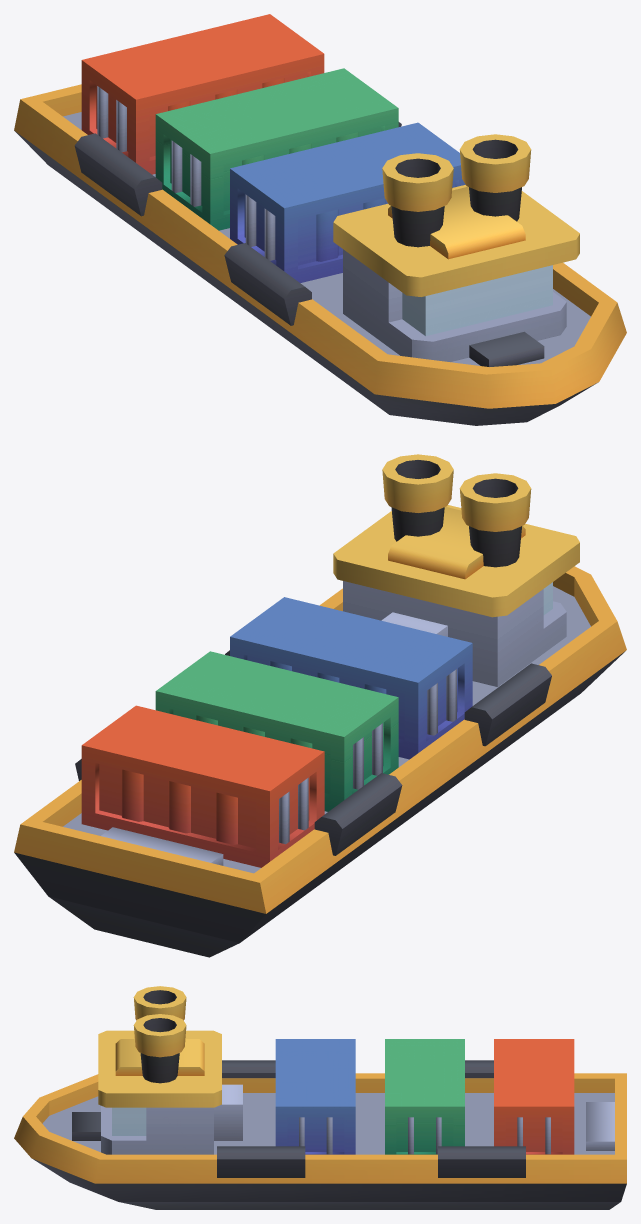
File: ship-cargo-a-transformed-transformed-transformed.glb
3 renders of one model, top to bottom at view 1: azimuth 30°, elevation 25°; view 2: azimuth 150°, elevation 25°; view 3: azimuth 270°, elevation 25°, orthographic. The views are drawn at different scales.
Parts seen in each view (by area): view 1: ship-cargo-a, cargo-b, cargo-c, cargo-a; view 2: ship-cargo-a, cargo-c, cargo-a, cargo-b; view 3: ship-cargo-a, cargo-a, cargo-c, cargo-b.
Part boxes in pixels (left/top/right/bottom): ship-cargo-a: left=14, top=84, right=626, bottom=425; cargo-b: left=155, top=68, right=398, bottom=230; cargo-c: left=81, top=14, right=324, bottom=174; cargo-a: left=230, top=122, right=465, bottom=282; ship-cargo-a: left=14, top=454, right=626, bottom=957; cargo-c: left=81, top=705, right=324, bottom=867; cargo-a: left=230, top=597, right=472, bottom=759; cargo-b: left=155, top=651, right=398, bottom=811; ship-cargo-a: left=14, top=986, right=626, bottom=1209; cargo-a: left=275, top=1039, right=355, bottom=1154; cargo-c: left=494, top=1039, right=574, bottom=1154; cargo-b: left=385, top=1039, right=464, bottom=1154.
Size of the model in its own units: 3.92 by 3.38 by 10.55.
Materials: 1 (1 with a texture image).
